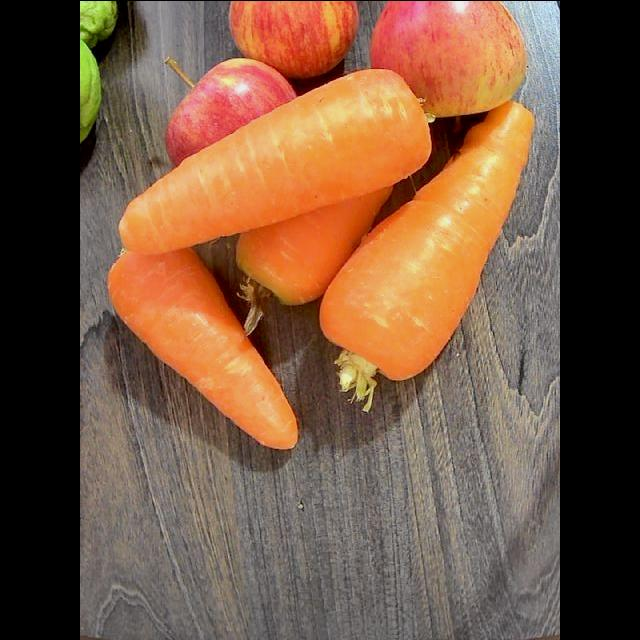chayote: (80, 40, 101, 143), (80, 1, 116, 47)
manzana: (371, 1, 525, 116), (165, 57, 295, 164), (229, 1, 358, 77)
zanahoria: (320, 101, 533, 410), (119, 69, 430, 253), (108, 249, 298, 448), (236, 186, 392, 333)
